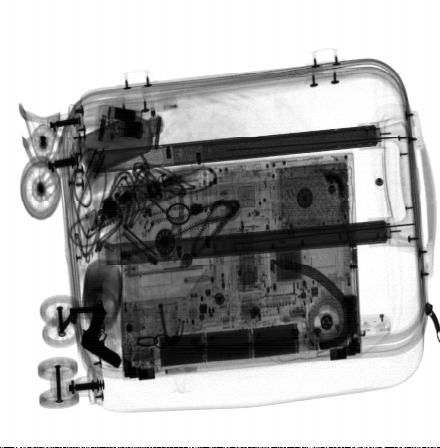Gun: (81, 301, 122, 372)
